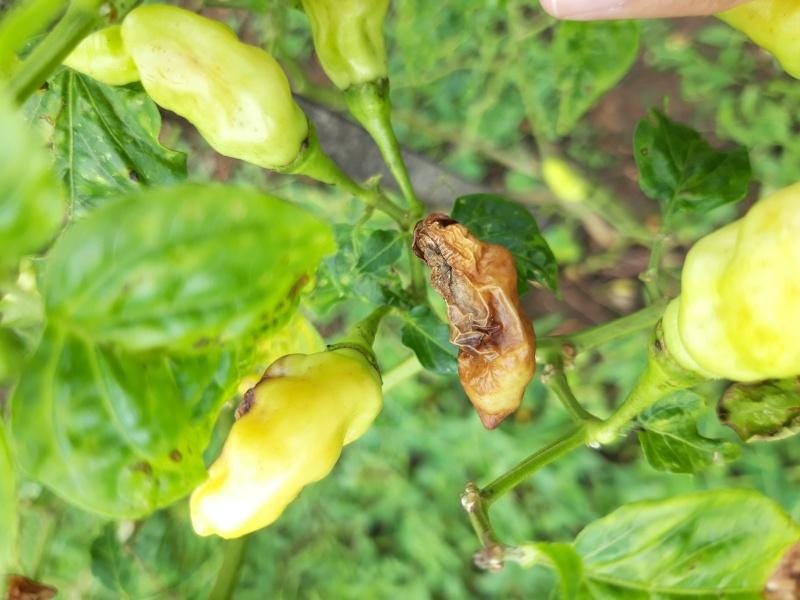antraknosa: (190, 351, 384, 539), (419, 219, 537, 430)
cabai_normal: (123, 7, 309, 165), (665, 181, 800, 381), (306, 1, 397, 88)
